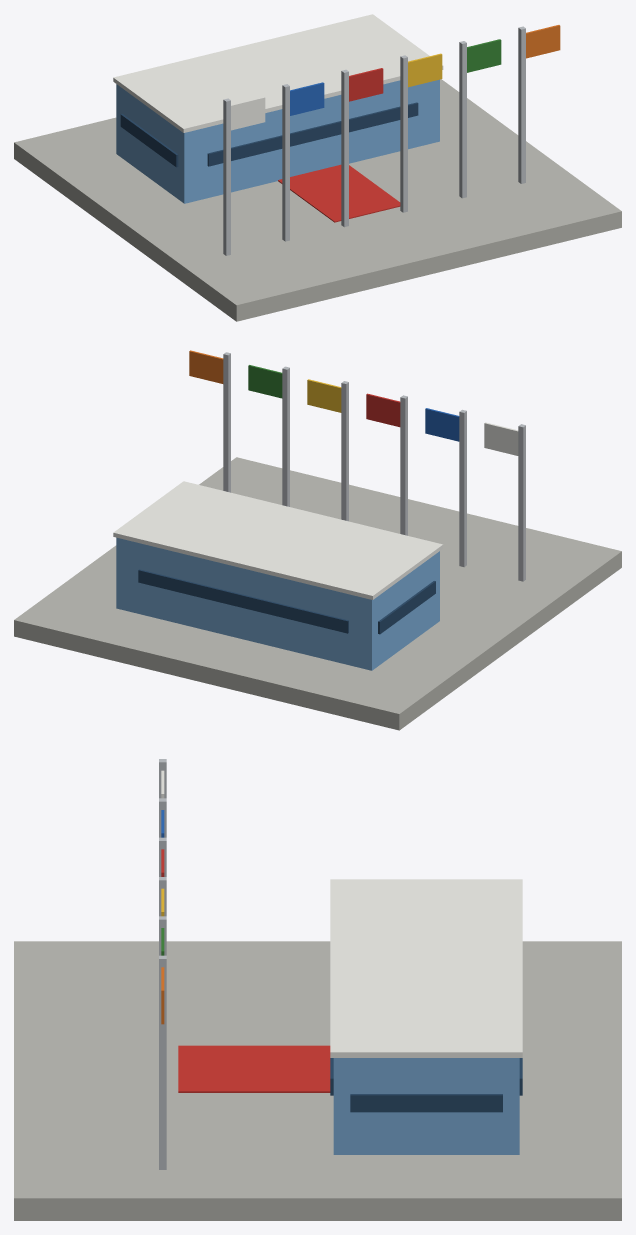
Rendered from forum.glb.
3 views of the same model, one above another, from view 1: azimuth 30°, elevation 25°; view 2: azimuth 150°, elevation 25°; view 3: azimuth 270°, elevation 25° (orthographic). The views are drawn at different scales.
Parts seen in each view (by area): view 1: forum; view 2: forum; view 3: forum.
Part boxes in pixels (x1,y1,x2,y2): forum: [14, 14, 621, 321]; forum: [14, 350, 621, 730]; forum: [14, 759, 621, 1220].
Bounding box in the file's own units: 1.96 × 0.83 × 1.96.
